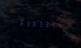eight: (29, 19, 34, 27)
four: (53, 20, 58, 28)
seven: (47, 20, 52, 28)
six: (17, 18, 22, 27)
three: (35, 19, 40, 28), (23, 19, 28, 27), (41, 20, 46, 28)
